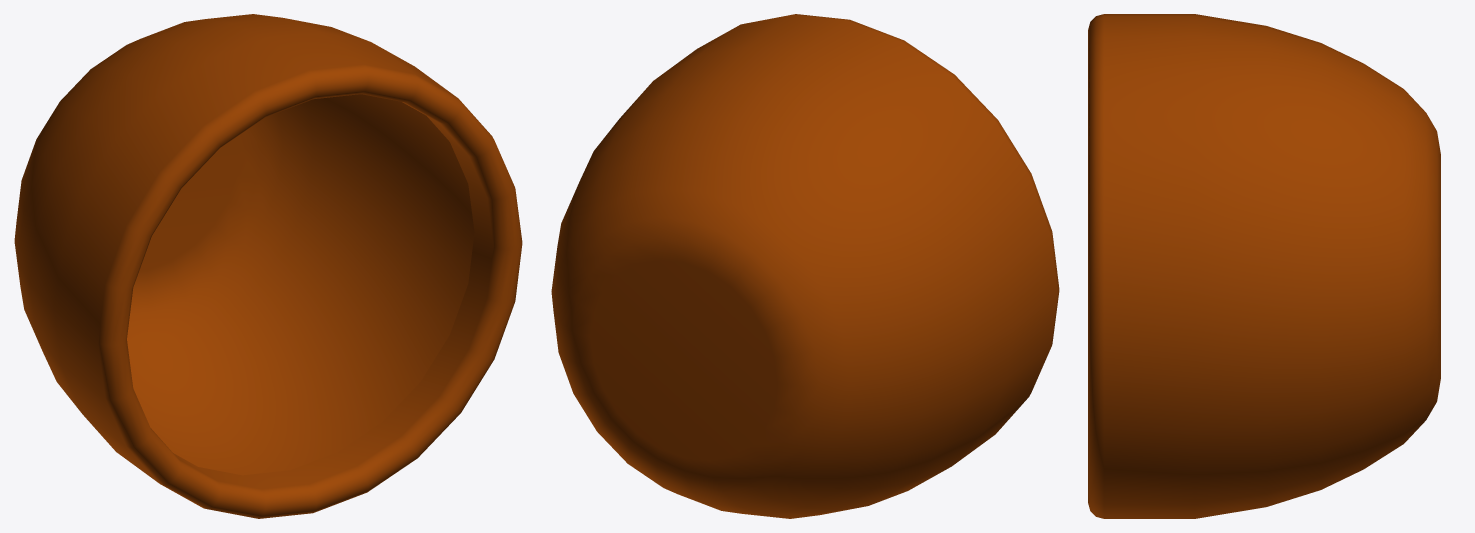
File: MeshHouseplant_8_0_GeomSubset_0.obj
3 views of the same model, side by side, from view 1: azimuth 30°, elevation 25°; view 2: azimuth 150°, elevation 25°; view 3: azimuth 270°, elevation 25° (orthographic). The views are drawn at different scales.
Visible parts, largest first — view 1: MeshHouseplant_8_0_GeomSubset_0; view 2: MeshHouseplant_8_0_GeomSubset_0; view 3: MeshHouseplant_8_0_GeomSubset_0.
Part boxes in pixels (x1,y1,x2,y2): MeshHouseplant_8_0_GeomSubset_0: (14, 14, 522, 518); MeshHouseplant_8_0_GeomSubset_0: (551, 14, 1059, 518); MeshHouseplant_8_0_GeomSubset_0: (1088, 14, 1440, 518).
Size of the model in its own units: 0.1506 by 0.1506 by 0.1108.
